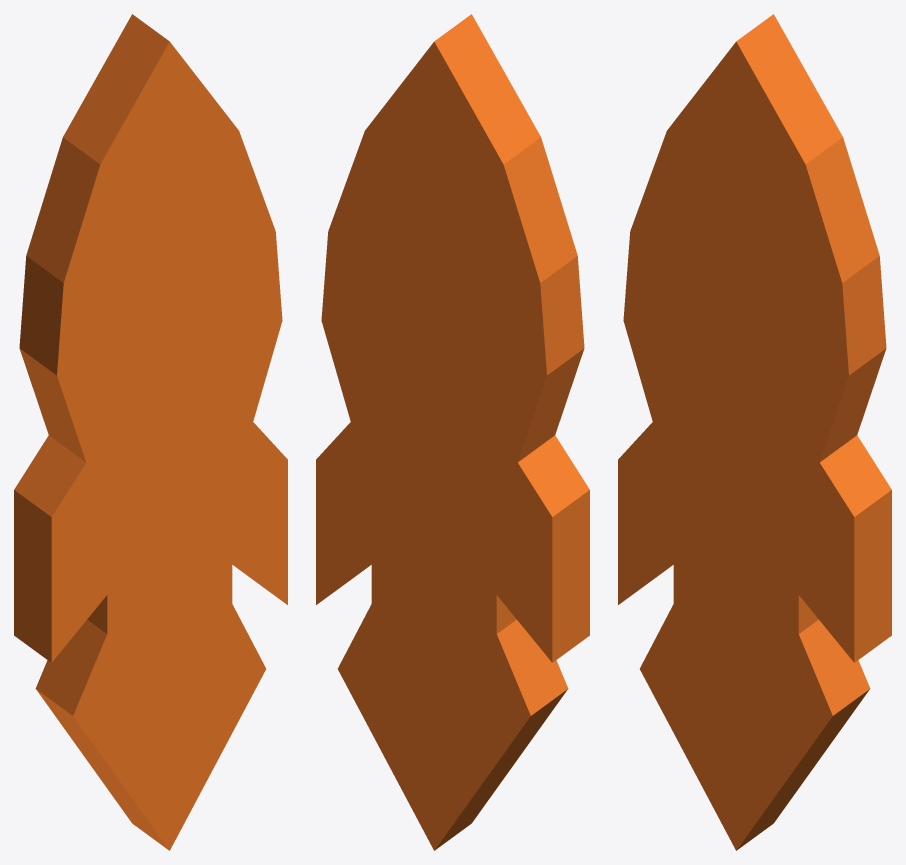
The model's file is power_up_tiro_teleguiado.glb.
3 renders of one model, left to right at view 1: azimuth 30°, elevation 25°; view 2: azimuth 150°, elevation 25°; view 3: azimuth 330°, elevation 25°, orthographic.
Visible parts, largest first — view 1: node_id80, node_id83, node_id86; view 2: node_id80, node_id83, node_id86; view 3: node_id80, node_id83, node_id86.
Part boxes in pixels (box(x1,y1,x2,y2)): node_id80: box(14, 14, 287, 662); node_id83: box(35, 604, 265, 850); node_id86: box(87, 564, 232, 634); node_id80: box(316, 14, 589, 662); node_id83: box(338, 604, 568, 850); node_id86: box(371, 564, 516, 634); node_id80: box(618, 14, 891, 662); node_id83: box(640, 604, 870, 850); node_id86: box(673, 564, 818, 634).
Size of the model in its own units: 0.0273 by 0.0894 by 0.00751.
3 materials, 3 textured.
